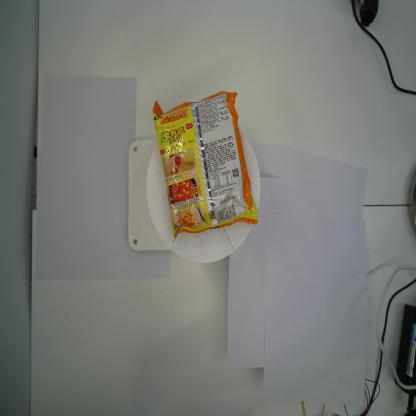Instant Noodles: (152, 91, 260, 244)
